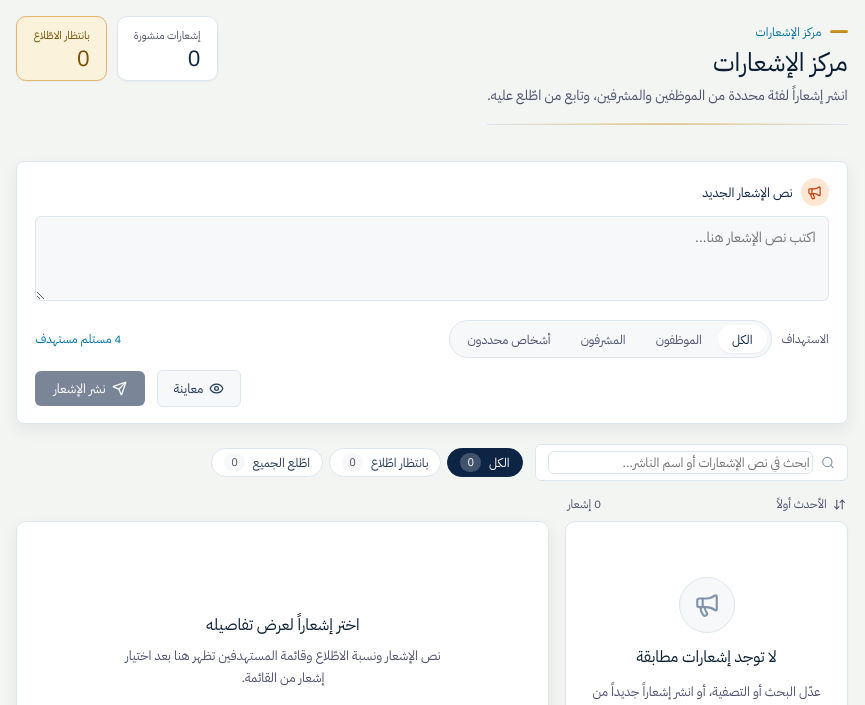
it: NotificationComposer targeting › surfaces the storage layer's empty-custom-audience rejection
The width and height of the screenshot is (865, 705).
Expected: the heading "لا توجد إشعارات مطابقة" is shown, x1=636 y1=645 x2=777 y2=669
Type "رسالة بلا مستلمين" into the text box labelled "نص الإشعار الجديد". click: x=432, y=259
box: x1=35 y1=216 x2=829 y2=301
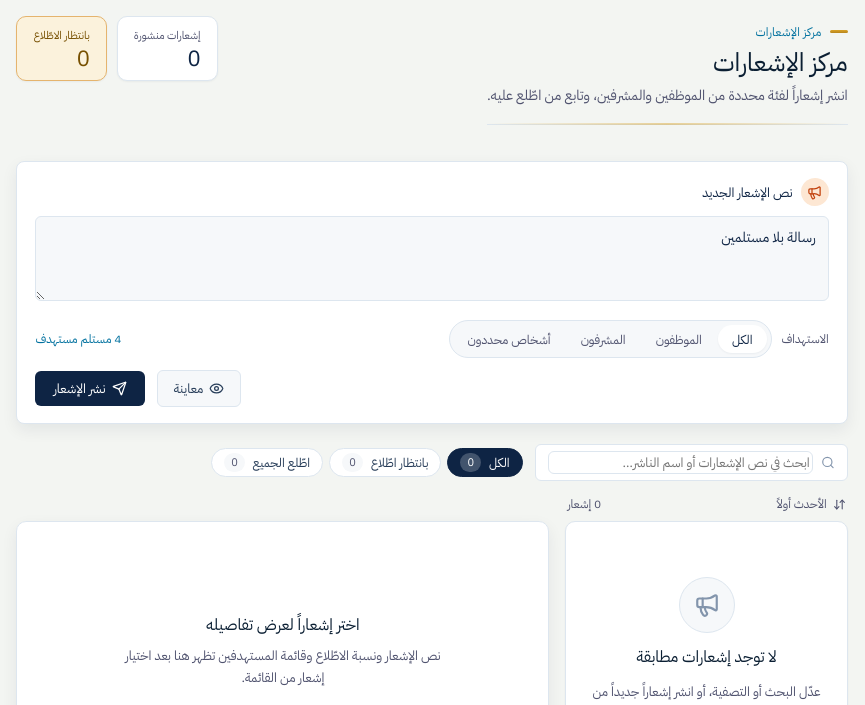
Click the tab "أشخاص محددون". click: x=509, y=339
box: x1=454 y1=325 x2=565 y2=353
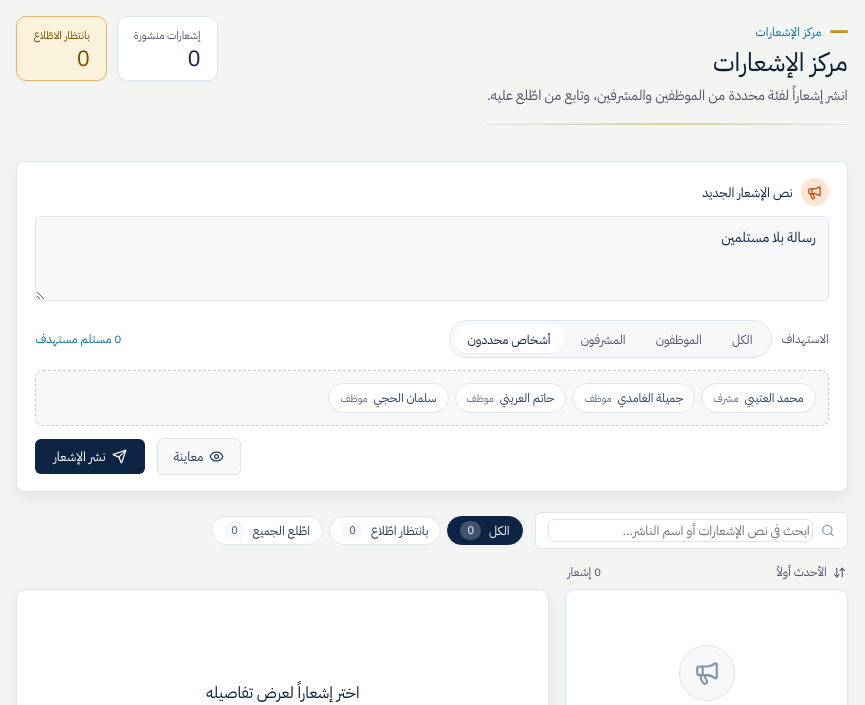
Click the button "نشر الإشعار". click: x=90, y=457
box: x1=35 y1=439 x2=145 y2=474
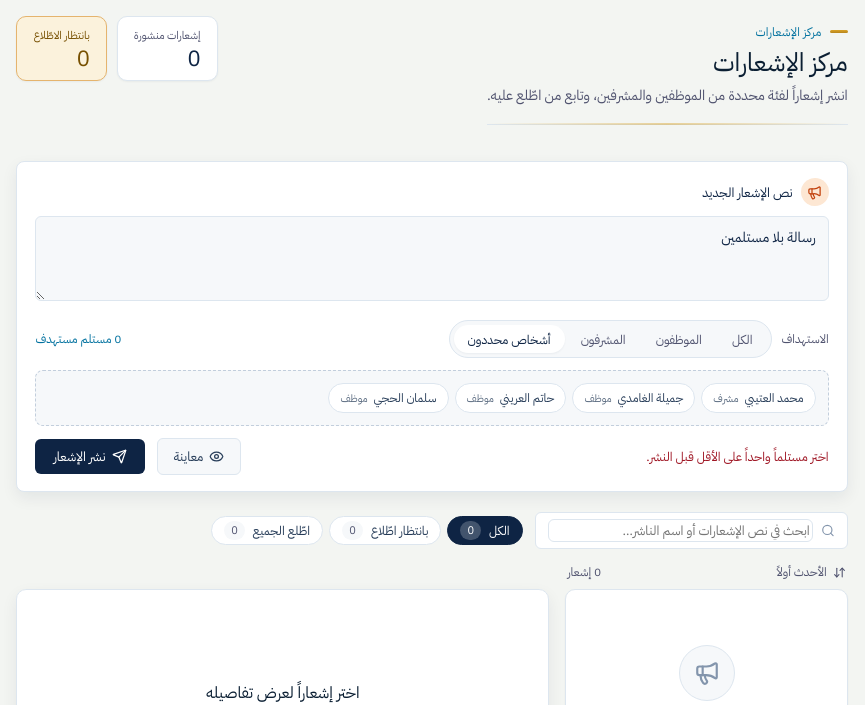
Result: the text "اختر مستلماً واحداً على الأقل قبل النشر." is shown at x1=646 y1=447 x2=829 y2=466
